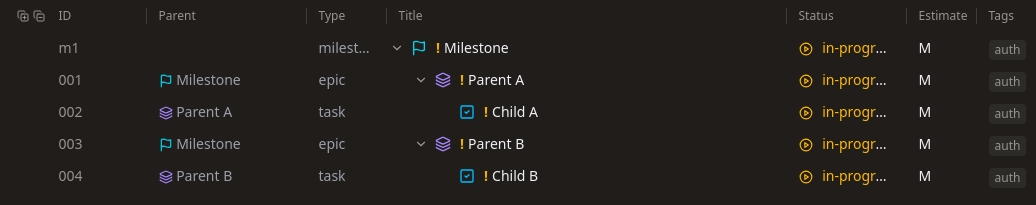
Test: TreeTable › expand-all button shows all children by clearing collapsed state
# Find and collapse the epic toggles (Parent A, Parent B)
Click the button with test id "toggle" in the row of "001".
click(420, 80)  # box [410,70,430,90]
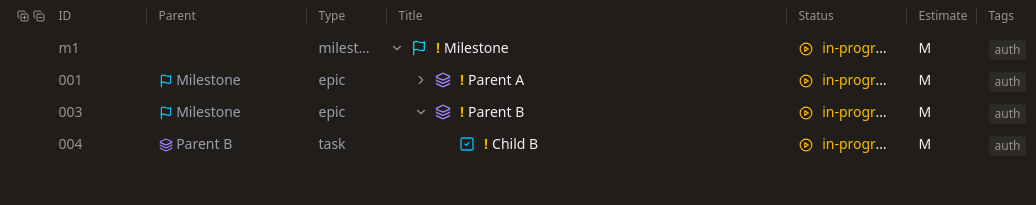
Click the button with test id "toggle" in the row of "003".
click(420, 112)  # box [410,102,430,122]
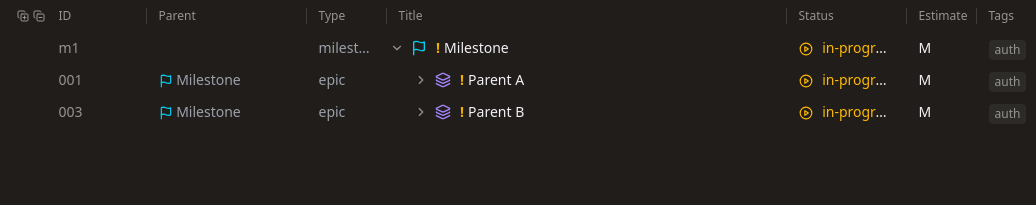
Check: the button "Child A" is not shown
Check: the button "Child B" is gone
Click the button with test id "expand-all".
click(22, 16)  # box [14,8,30,24]
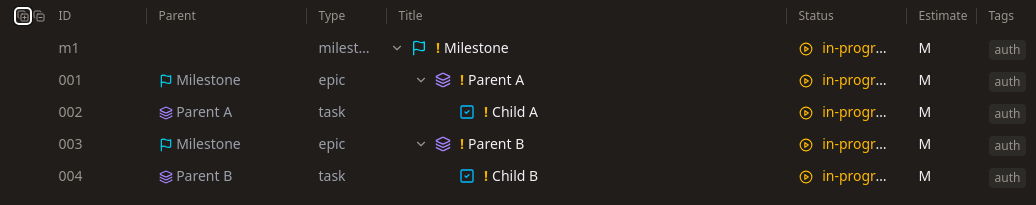
Check: the button "Child A" is shown, box [492,102,538,122]
Check: the button "Child B" is shown, box [492,166,538,186]
